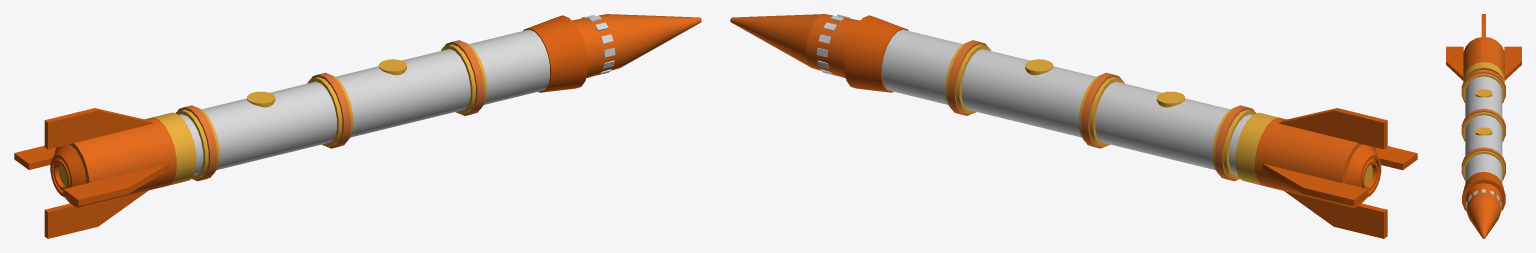
The model's file is M4-ballistic.glb.
3 views of the same model, side by side, from view 1: azimuth 30°, elevation 25°; view 2: azimuth 150°, elevation 25°; view 3: azimuth 270°, elevation 25° (orthographic). The views are drawn at different scales.
Parts seen in each view (by area): view 1: Cube_0_Gray_0, Cylinder_9_Or_dark_0, Cylinder_Or_base_0, Cylinder_5_Yellow_0, Cylinder_10_Or_light_0; view 2: Cube_0_Gray_0, Cylinder_9_Or_dark_0, Cylinder_Or_base_0, Cylinder_5_Yellow_0, Cylinder_10_Or_light_0; view 3: Cube_0_Gray_0, Cylinder_Or_base_0, Cylinder_9_Or_dark_0, Cylinder_5_Yellow_0, Cylinder_10_Or_light_0.
Part boxes in pixels (box(x1,y1,x2,y2)): Cube_0_Gray_0: box(179, 14, 615, 175); Cylinder_9_Or_dark_0: box(14, 15, 587, 238); Cylinder_Or_base_0: box(54, 14, 701, 207); Cylinder_5_Yellow_0: box(56, 42, 486, 185); Cylinder_10_Or_light_0: box(177, 40, 484, 181); Cube_0_Gray_0: box(817, 14, 1252, 175); Cylinder_9_Or_dark_0: box(844, 15, 1417, 238); Cylinder_Or_base_0: box(730, 14, 1377, 207); Cylinder_5_Yellow_0: box(945, 43, 1374, 185); Cylinder_10_Or_light_0: box(947, 40, 1254, 181); Cube_0_Gray_0: box(1465, 70, 1502, 213); Cylinder_Or_base_0: box(1463, 37, 1504, 238); Cylinder_9_Or_dark_0: box(1446, 14, 1521, 211); Cylinder_5_Yellow_0: box(1463, 62, 1504, 178); Cylinder_10_Or_light_0: box(1461, 70, 1505, 180).
Size of the model in its own units: 596 by 101 by 101.
